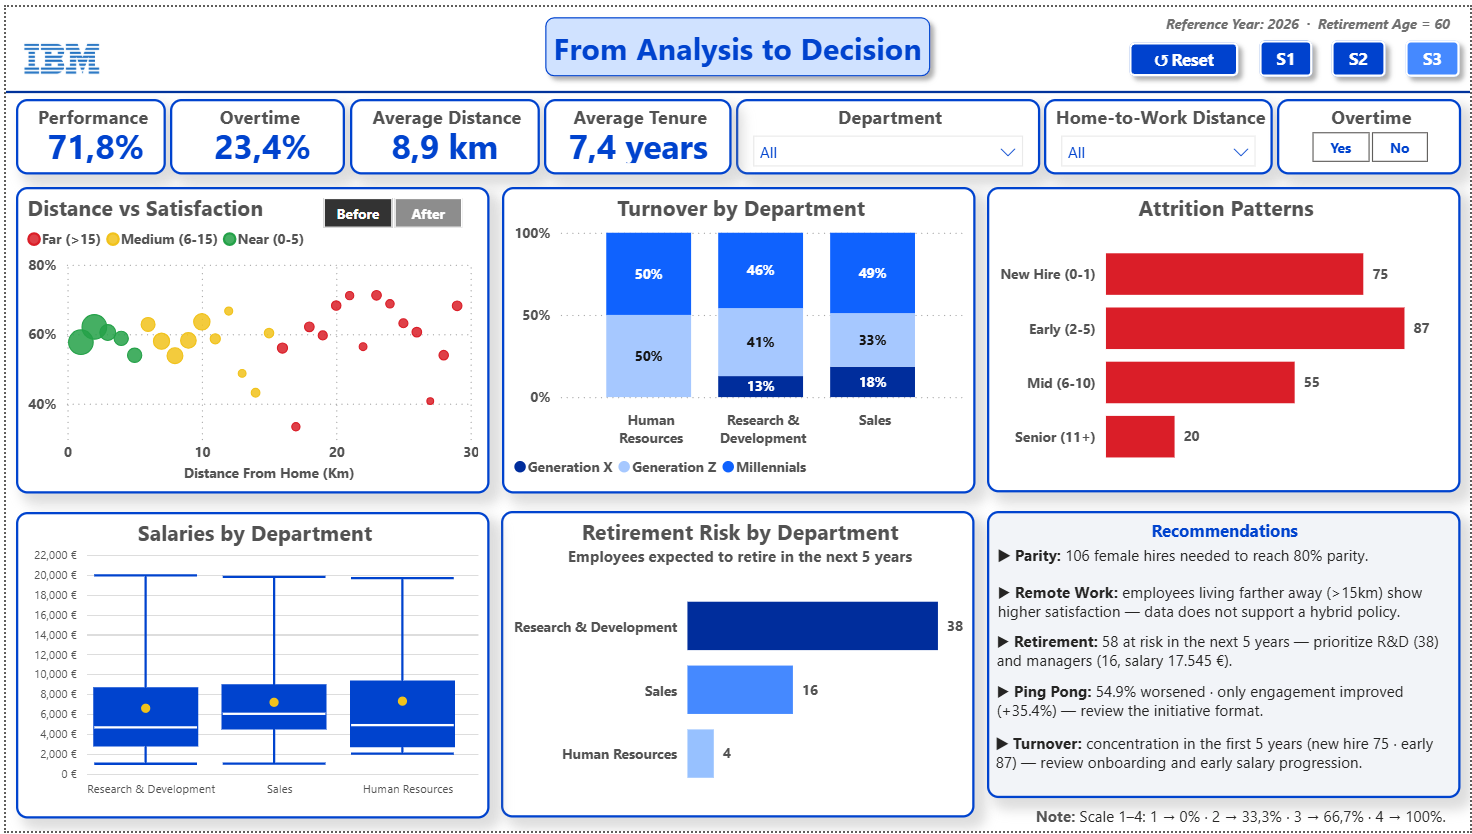

The page's visual inventory and layout, read from the dashboard file:
{"tool":"powerbi","page":{"name":"Decision","canvas":[1280,720],"ordinal":2},"visuals":[{"type":"actionButton","title":"S1","box":[1086.7,20,64.4,50],"z":0},{"type":"actionButton","title":"S1","box":[1150,20,65.6,50],"z":1000},{"type":"actionButton","title":"S1","box":[1214.4,20,65.6,50],"z":2000},{"type":"shape","box":[0,68,1280,12.2],"z":3000},{"type":"image","box":[8.9,5.6,80,80],"z":4000},{"type":"shape","box":[462.7,0,354.5,69.6],"z":5000},{"type":"actionButton","box":[973.3,22.2,113.3,47.8],"z":6000},{"type":"textbox","box":[996.7,0,283.3,28.9],"z":7000},{"type":"card","title":"Performance","fields":{"Values":["Medidas.Performance Média %"]},"box":[9,80,131,66],"z":8000},{"type":"card","title":"Overtime","fields":{"Values":["Medidas.Overtime %"]},"box":[143.8,80,153.3,66],"z":9000},{"type":"card","title":"Average Distance","fields":{"Values":["Medidas.Dist. Média Casa-Trab."]},"box":[300.9,80,165.6,66],"z":10000},{"type":"slicer","title":"Department","fields":{"Values":["d_department.department_name"]},"box":[638,80,265.6,66],"z":11000},{"type":"card","title":"Average Tenure","fields":{"Values":["Medidas.Tenure Médio"]},"box":[470.2,80.4,164.5,66.1],"z":12000},{"type":"slicer","title":"Home-to-Work Distance","fields":{"Values":["f_employee_movement.distance_from_home_band"]},"box":[907.3,80,200,66],"z":13000},{"type":"slicer","title":"Overtime","fields":{"Values":["f_employee_movement.over_time"]},"box":[1111.1,80,161.1,66],"z":14000},{"type":"scatterChart","title":"Distance vs Satisfaction","fields":{"Series":["f_employee_movement.distance_from_home_band"],"Size":["Medidas.Total Ativos"],"X":["d_employee.distance_from_home"],"Y":["Medidas.Satisfação Dinâmica %"]},"box":[8.9,157.8,414.4,267.8],"z":15000},{"type":"textbox","box":[895.6,693.3,384.4,26.7],"z":16000},{"type":"slicer","fields":{"Values":["f_satisfaction_history.survey_type_en"]},"box":[252,160,171,38],"z":17000},{"type":"hundredPercentStackedColumnChart","title":"Turnover by Department","fields":{"Category":["d_department.department_name"],"Series":["d_employee.generation"],"Y":["_Measures.Total Employees Exits"]},"box":[433.5,157,414.4,267.7],"z":18000},{"type":"barChart","title":"Attrition Patterns","fields":{"Category":["f_employee_movement.tenure_category"],"Y":["Medidas.Total Saídas"]},"box":[858,157,414,267],"z":19000},{"type":"barChart","title":"Retirement Risk by Department","fields":{"Category":["d_department.department_name"],"Y":["Medidas.Em Risco Reforma"]},"box":[433.1,441,414,267.9],"z":21000},{"type":"BoxWhiskerChart1455240051538","title":"Salaries by Department","fields":{"Groups":["d_department.department_name"],"Values":["Medidas.Massa Salarial Ativos"],"Samples":["d_employee.employee_number"]},"box":[8.5,441.9,414,268.2],"z":22000},{"type":"textbox","box":[857.8,442.2,414.4,40],"z":23000},{"type":"shape","box":[857.8,441,414,251.1],"z":24000},{"type":"textbox","box":[915.6,442.2,300,30],"z":25000},{"type":"textbox","box":[861.9,465.2,408.1,34.2],"z":26000},{"type":"textbox","box":[862.2,497.2,410,45.6],"z":27000},{"type":"textbox","box":[861.1,540.5,410,45.6],"z":28000},{"type":"textbox","box":[861.1,583.8,410,47.8],"z":29000},{"type":"textbox","box":[860.5,629.3,409.5,48.5],"z":30000}]}

Visuals, with their boxes in screenshot pixels (x1, y1, x2, y2), scaled from the page's 1280x720 canvas onto the 1472x834 screenshot:
"S1" actionButton: bbox=(1250, 23, 1324, 81)
"S1" actionButton: bbox=(1322, 23, 1398, 81)
"S1" actionButton: bbox=(1397, 23, 1471, 81)
shape: bbox=(0, 79, 1471, 93)
image: bbox=(10, 6, 102, 99)
shape: bbox=(532, 0, 940, 81)
actionButton: bbox=(1119, 26, 1250, 81)
textbox: bbox=(1146, 0, 1471, 33)
"Performance" card: bbox=(10, 93, 161, 169)
"Overtime" card: bbox=(165, 93, 342, 169)
"Average Distance" card: bbox=(346, 93, 536, 169)
"Department" slicer: bbox=(734, 93, 1039, 169)
"Average Tenure" card: bbox=(541, 93, 730, 170)
"Home-to-Work Distance" slicer: bbox=(1043, 93, 1273, 169)
"Overtime" slicer: bbox=(1278, 93, 1463, 169)
"Distance vs Satisfaction" scatterChart: bbox=(10, 183, 487, 493)
textbox: bbox=(1030, 803, 1471, 833)
slicer - f_satisfaction_history.survey_type_en: bbox=(290, 185, 486, 229)
"Turnover by Department" hundredPercentStackedColumnChart: bbox=(499, 182, 975, 492)
"Attrition Patterns" barChart: bbox=(987, 182, 1463, 491)
"Retirement Risk by Department" barChart: bbox=(498, 511, 974, 821)
"Salaries by Department" BoxWhiskerChart1455240051538: bbox=(10, 512, 486, 823)
textbox: bbox=(986, 512, 1463, 559)
shape: bbox=(986, 511, 1463, 802)
textbox: bbox=(1053, 512, 1398, 547)
textbox: bbox=(991, 539, 1460, 578)
textbox: bbox=(992, 576, 1463, 629)
textbox: bbox=(990, 626, 1462, 679)
textbox: bbox=(990, 676, 1462, 732)
textbox: bbox=(990, 729, 1460, 785)
